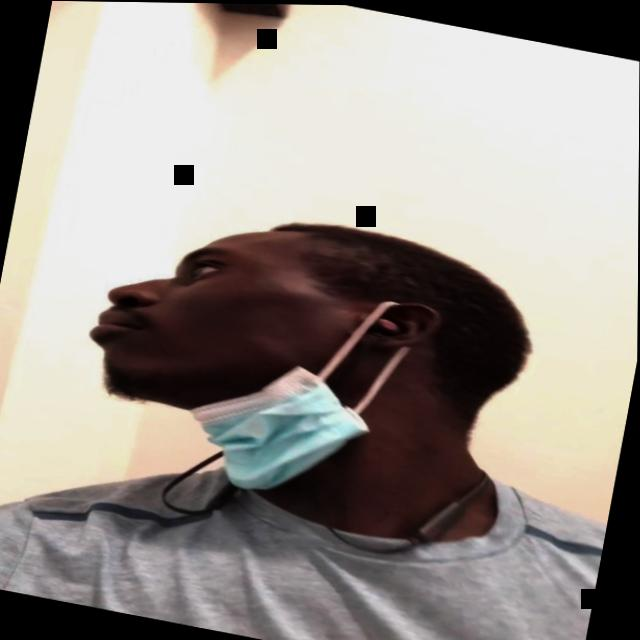NO-Mask: (66, 199, 423, 513)
